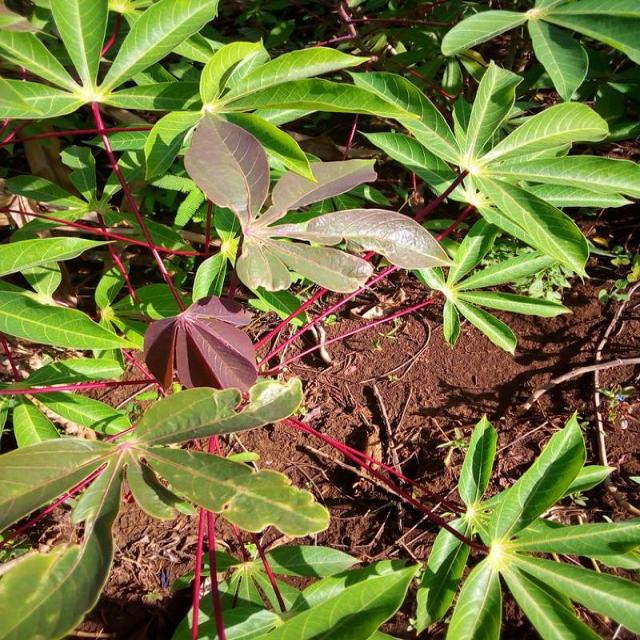cassava leaf: (144, 293, 260, 400)
